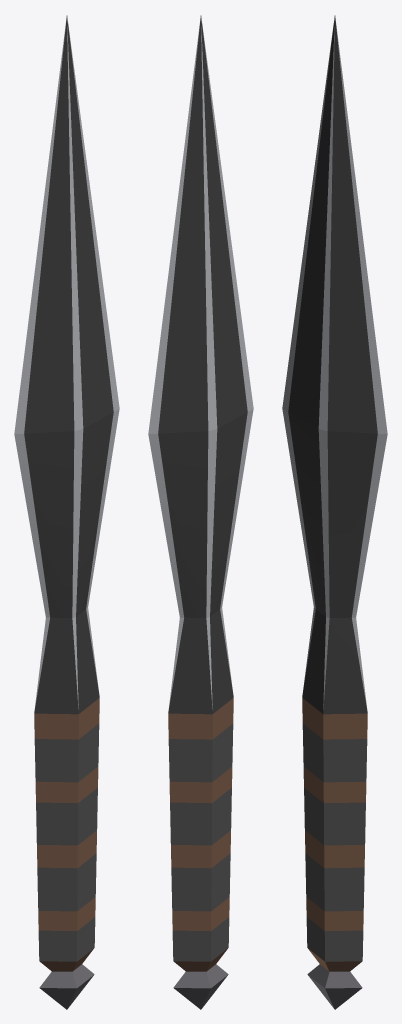
The model's file is Dagger_3.fbx.
3 renders of one model, left to right at view 1: azimuth 30°, elevation 25°; view 2: azimuth 210°, elevation 25°; view 3: azimuth 330°, elevation 25°, orthographic.
Parts seen in each view (by area): view 1: pCylinder52; view 2: pCylinder52; view 3: pCylinder52.
Boxes of the visible parts, left/top/right/bottom form: pCylinder52: left=14, top=15, right=119, bottom=1009; pCylinder52: left=148, top=15, right=253, bottom=1009; pCylinder52: left=282, top=15, right=387, bottom=1009.
Size of the model in its own units: 16.77 by 151 by 6.52.
